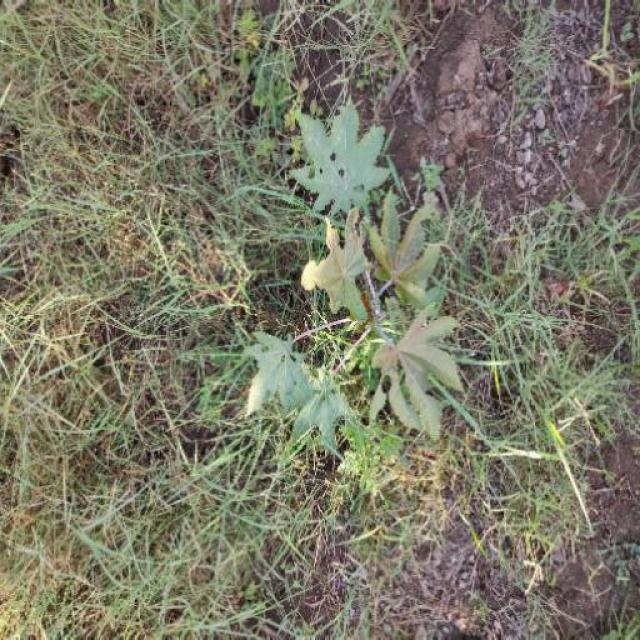weed: (16, 38, 278, 600), (212, 116, 498, 454)
